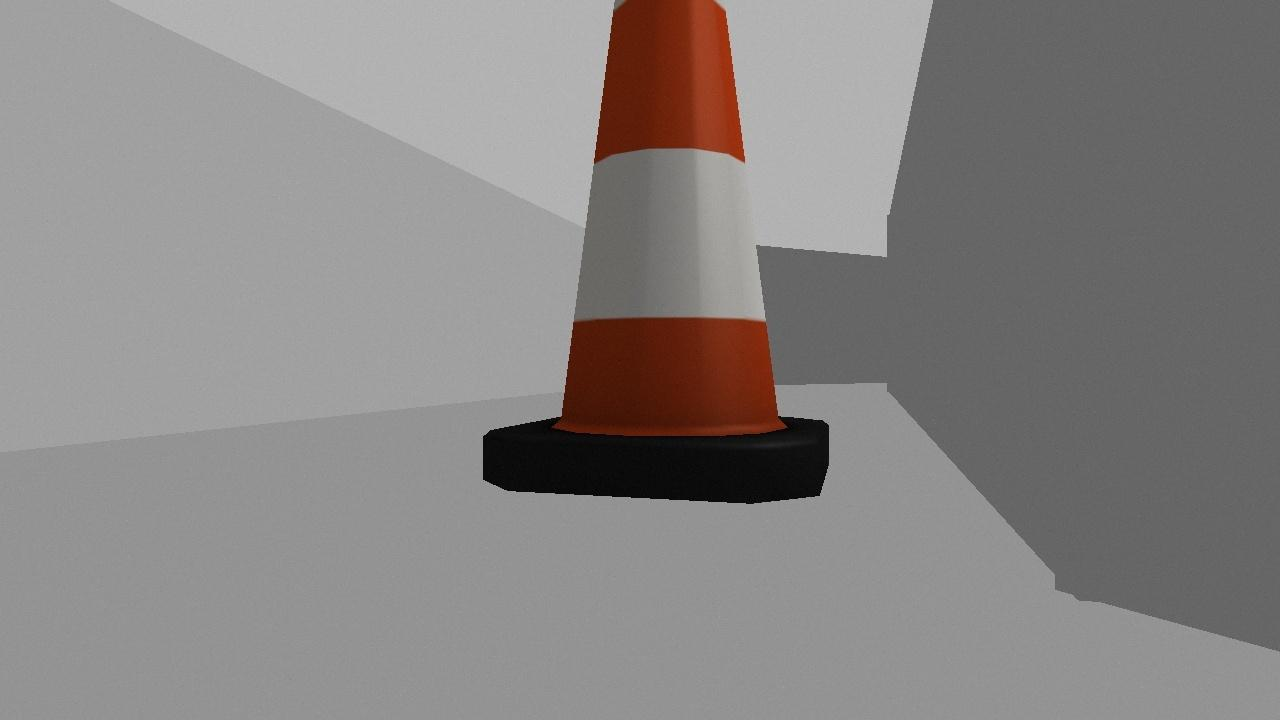cone_barrel: (480, 0, 832, 501)
